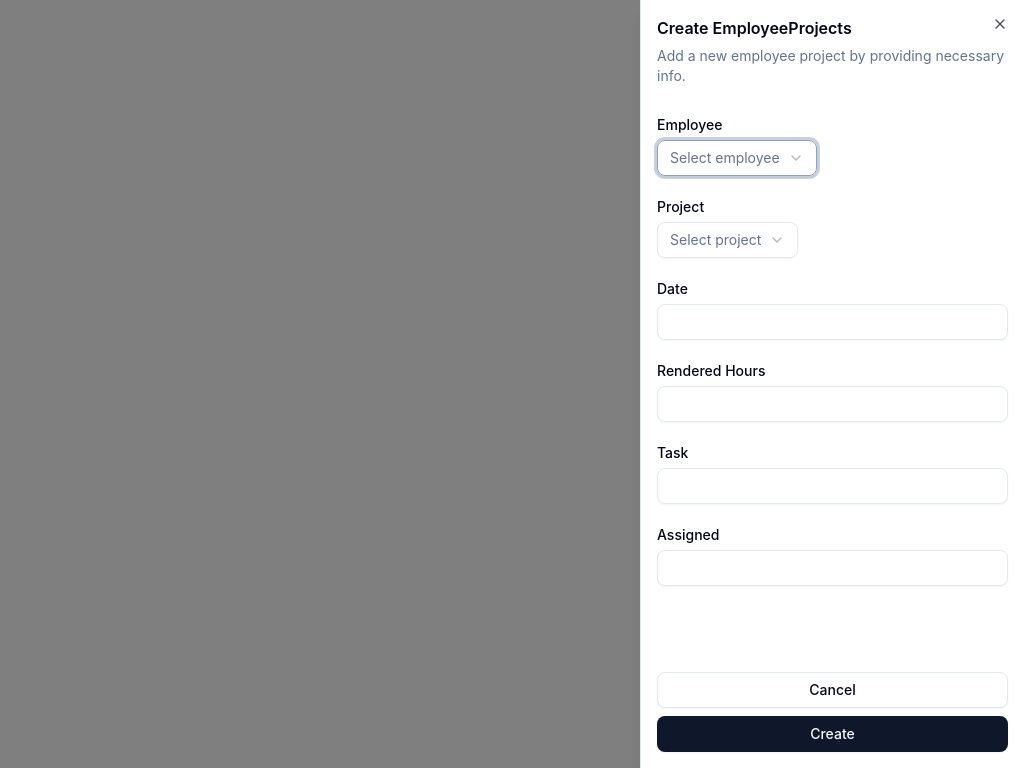
rejects fractional rendered hours before submitting
In the field with test id "employee-project-rendered-hours-input": (832, 404) [657,386,1008,422], type "2.5"
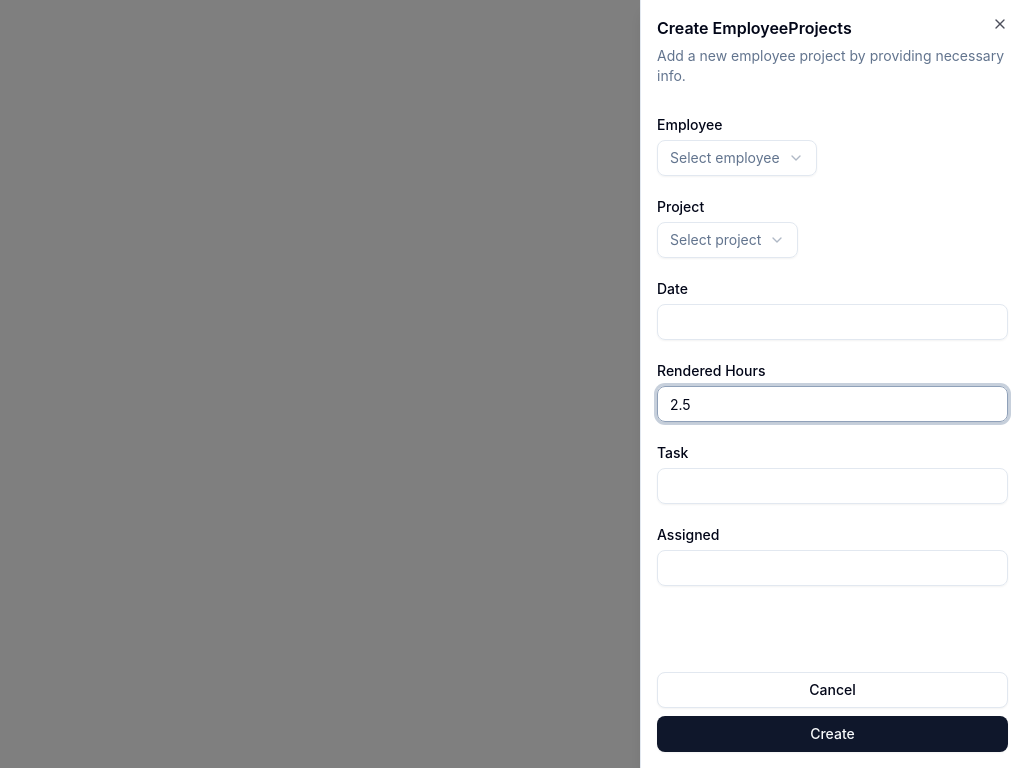
Click the dropdown with test id "employee-project-employee-select": (737, 158) [657,140,817,176]
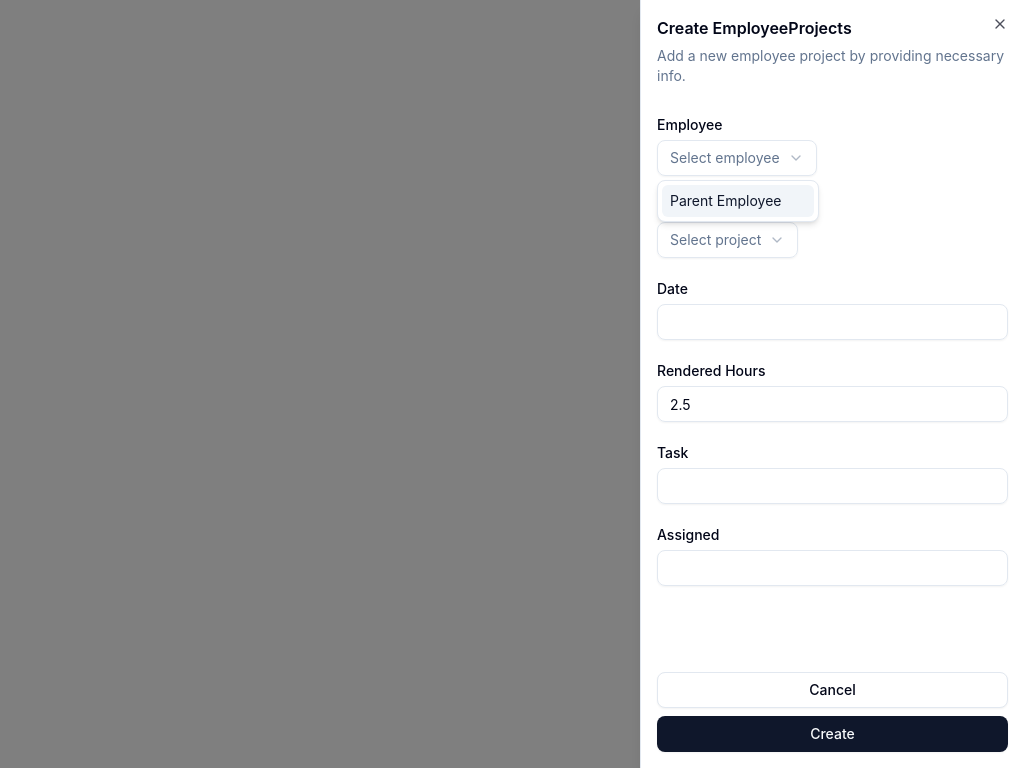
Click the option "Parent Employee": (738, 201) [662,185,814,217]
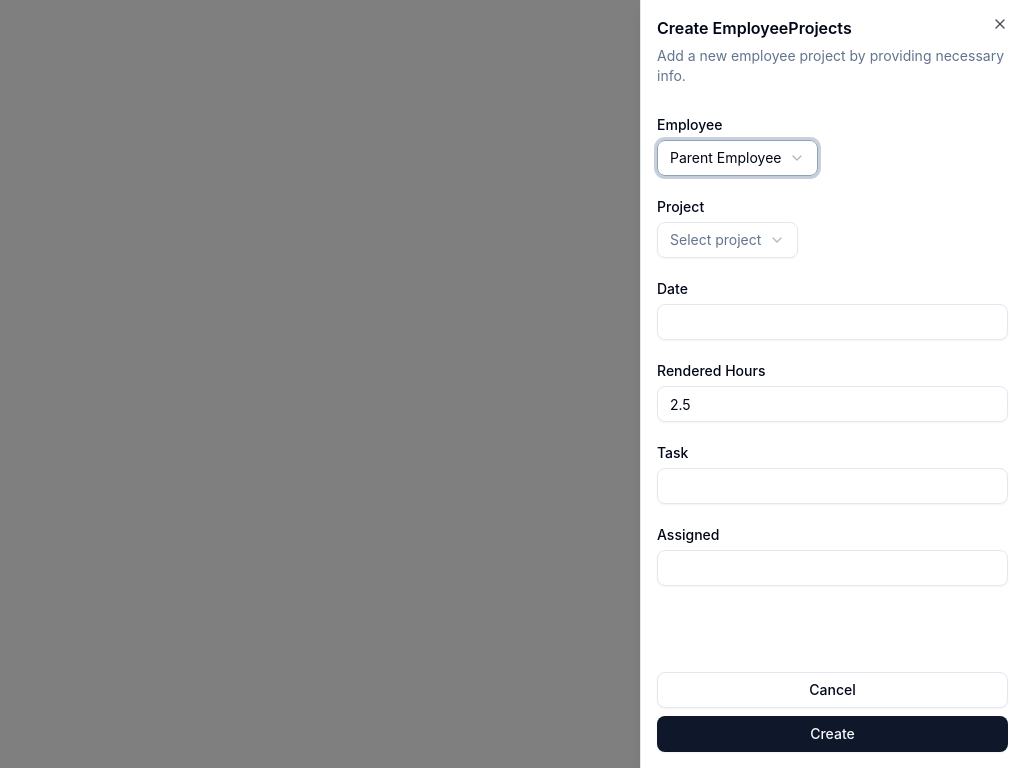
Click the dropdown with test id "employee-project-project-select": (728, 240) [657,222,798,258]
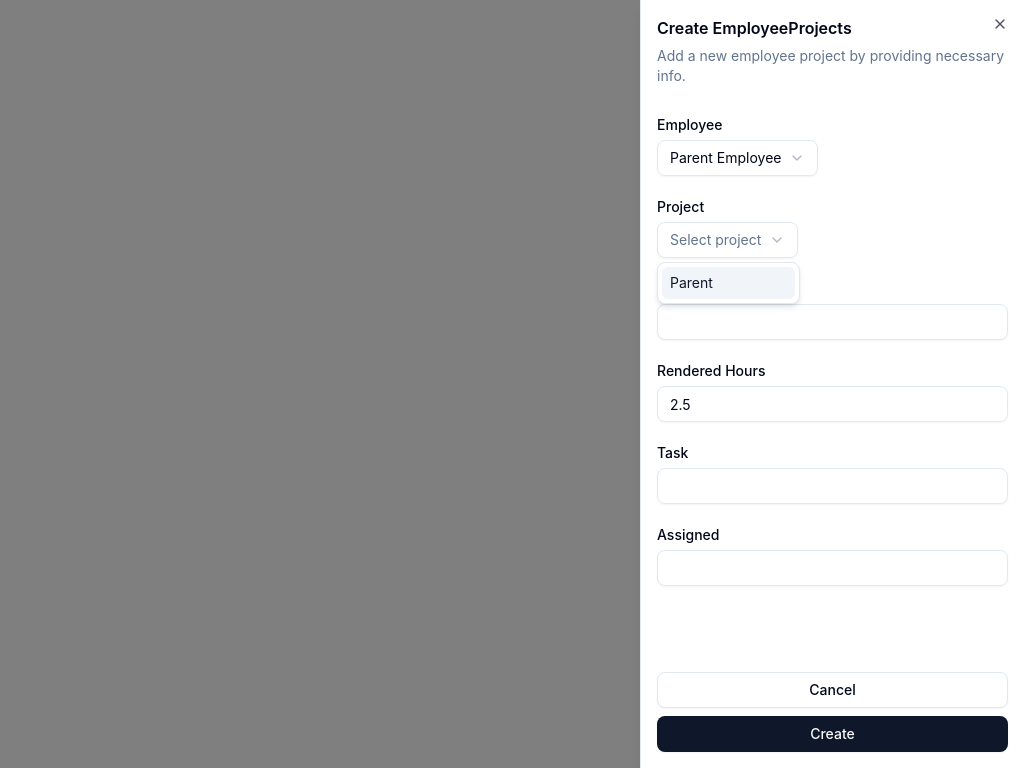
Click the option "Parent": (729, 283) [662,267,795,299]
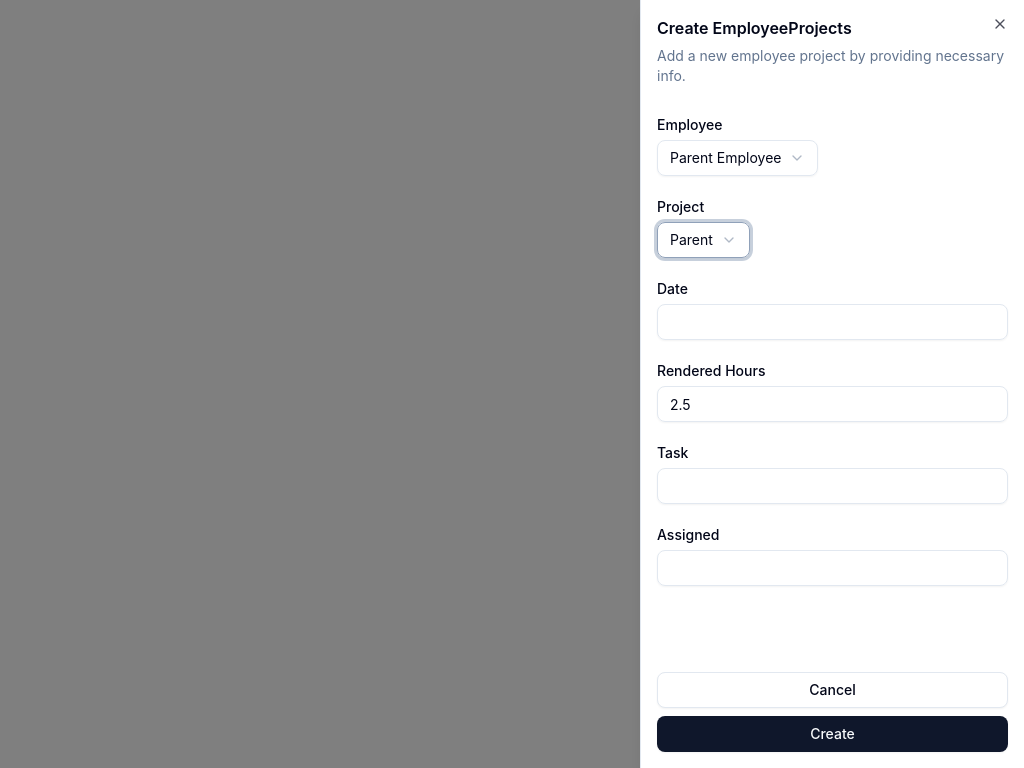
Click the button with test id "employee-project-submit-button": (832, 734) [657,716,1008,752]
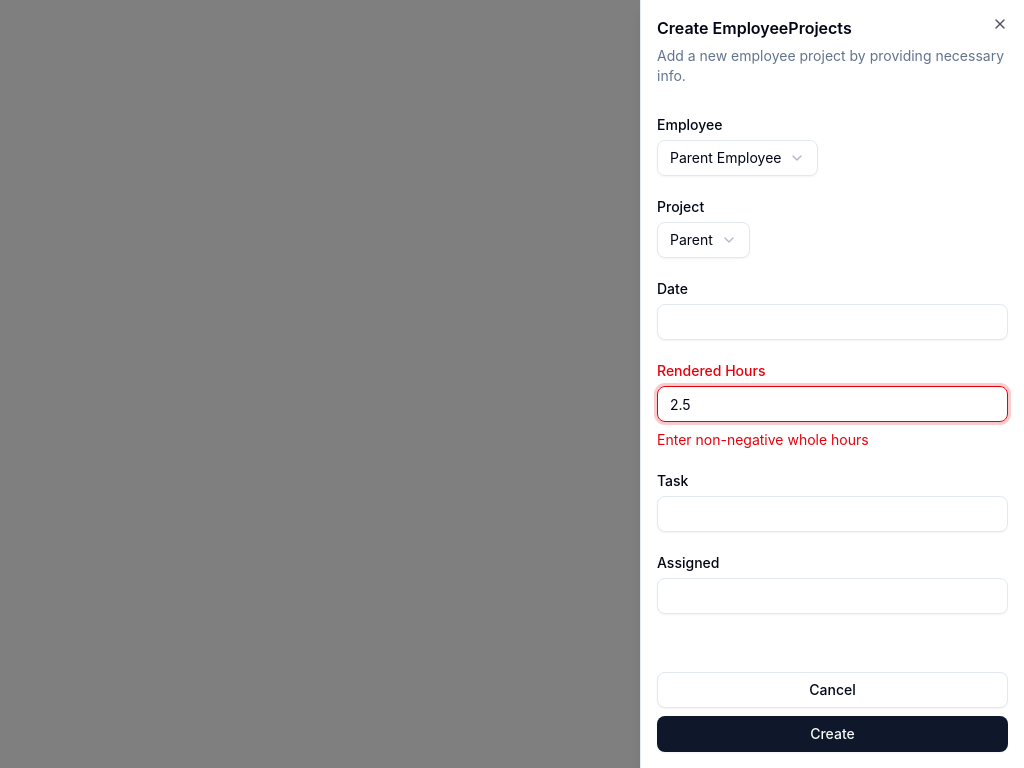
expect the text "Enter non-negative whole hours" is shown: met, box [657,431,869,448]
